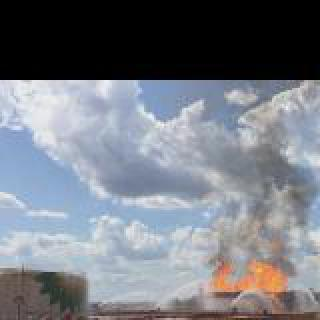fire: (210, 145, 318, 267), (210, 256, 286, 304)
